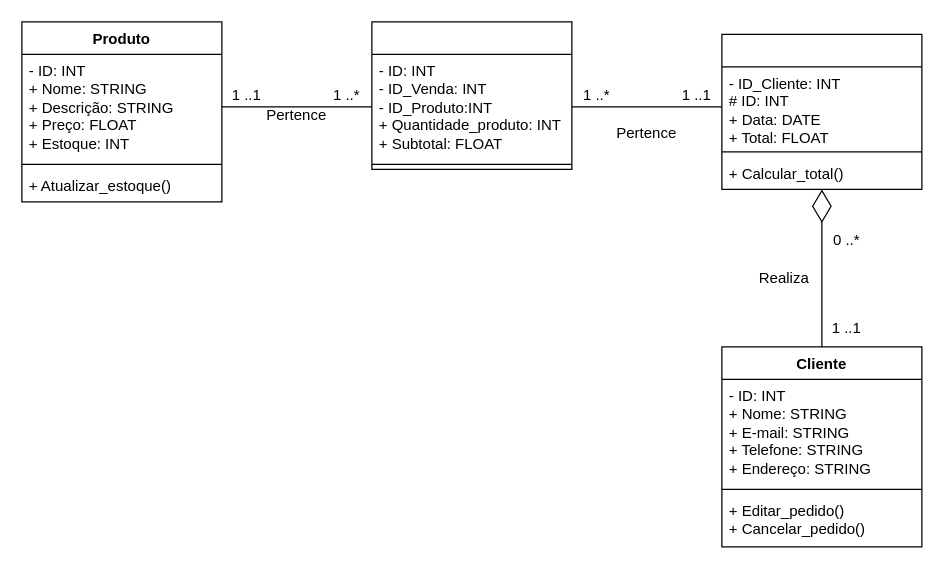
This 944x573 diagram has some shape labels left out. Here are the shapes that lost their labels. From the top down, the box of each, then its label:
(371, 21, 572, 169): Pedido_produto
(721, 33, 922, 189): Pedido
